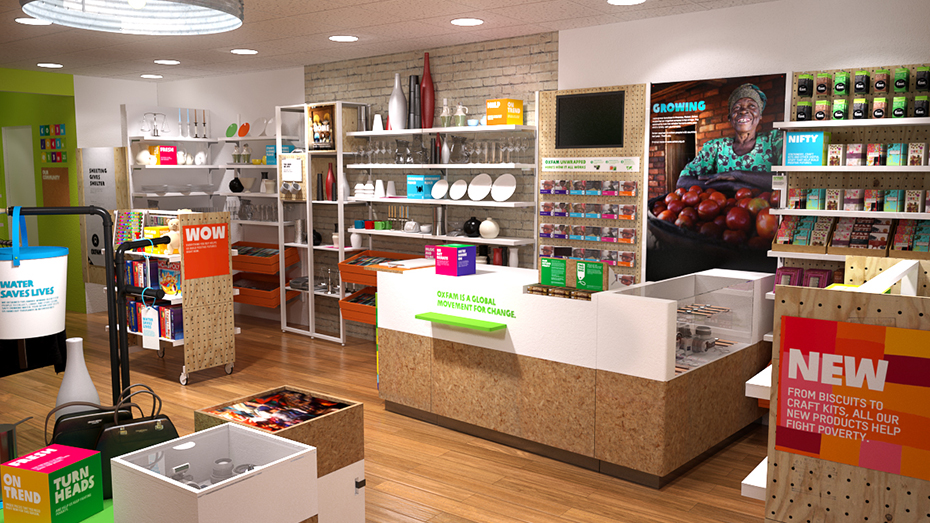Not_Face: (723, 87, 769, 131)
